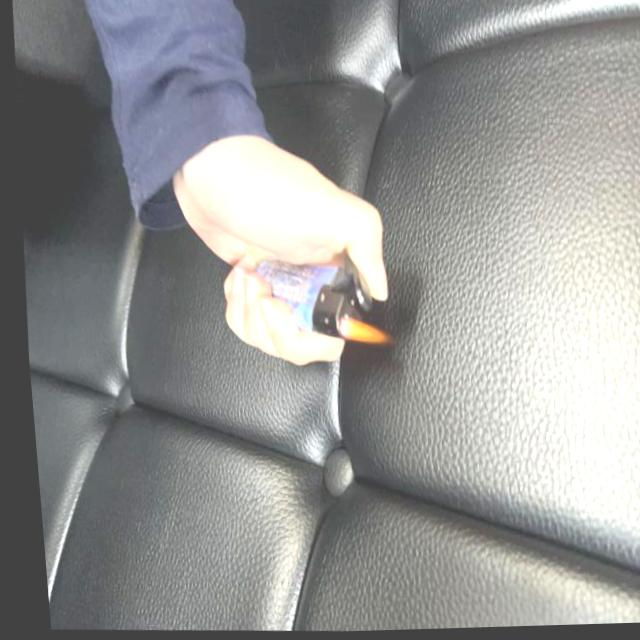helmet: (333, 313, 382, 348)
